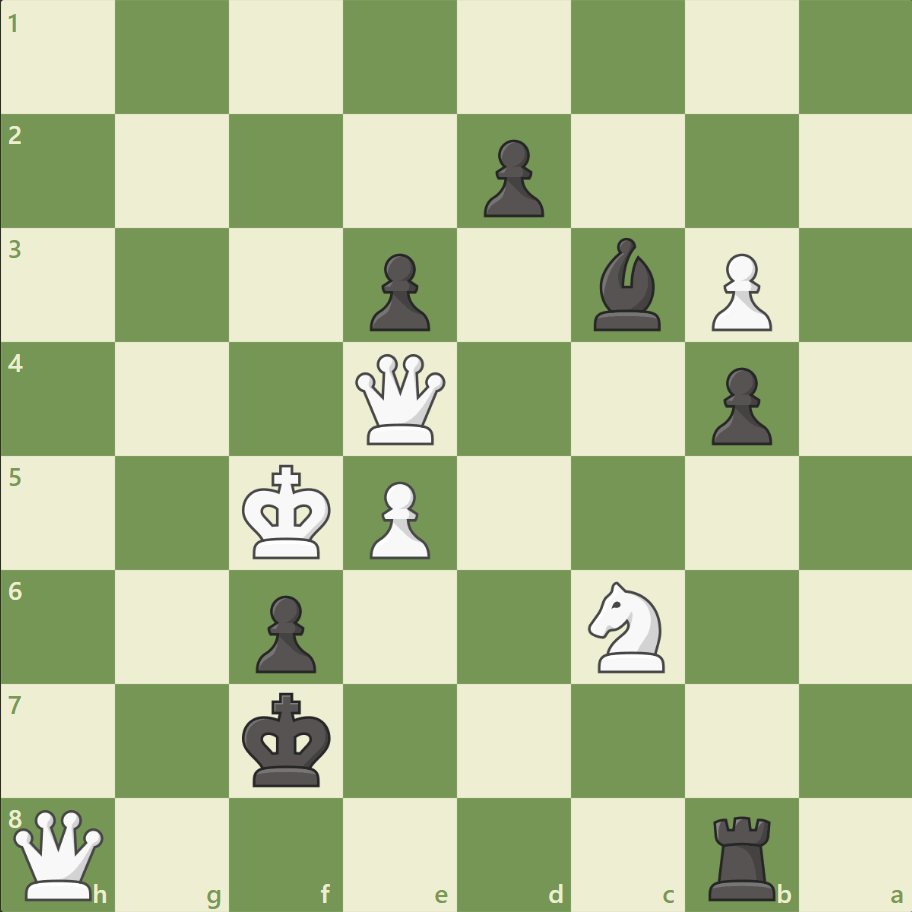K: (238, 458, 338, 566)
N: (579, 575, 676, 677)
P: (701, 246, 776, 337), (361, 473, 435, 564)
Q: (351, 349, 450, 449), (10, 804, 109, 903)
b: (585, 233, 669, 336)
k: (238, 685, 338, 793)
p: (247, 586, 322, 677), (701, 359, 776, 450), (474, 132, 549, 223), (361, 246, 435, 337)
r: (700, 806, 783, 904)
